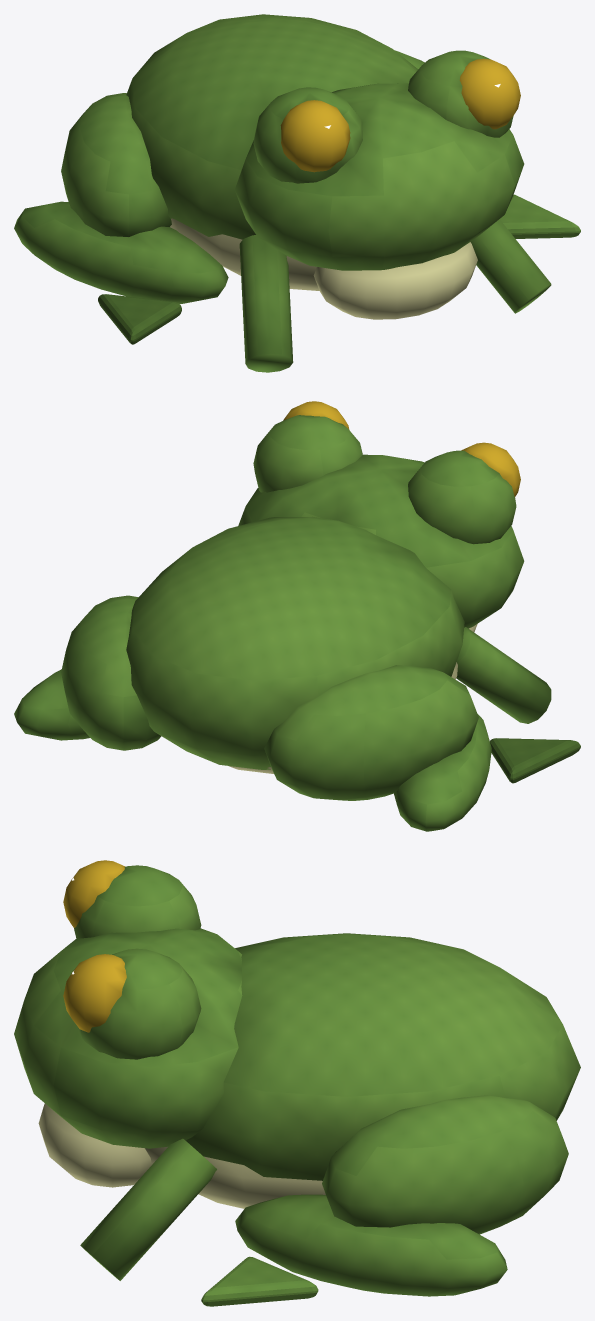
The model's file is frog.glb.
3 renders of one model, top to bottom at view 1: azimuth 30°, elevation 25°; view 2: azimuth 150°, elevation 25°; view 3: azimuth 270°, elevation 25°, orthographic. The views are drawn at different scales.
Visible parts, largest first — view 1: frog_mesh, legsB_mesh, throat_mesh; view 2: frog_mesh, legsB_mesh; view 3: frog_mesh, legsB_mesh, throat_mesh.
Part boxes in pixels (x1,y1,x2,y2): frog_mesh: [126, 14, 551, 372]; legsB_mesh: [14, 50, 580, 344]; throat_mesh: [313, 242, 477, 319]; frog_mesh: [126, 401, 551, 773]; legsB_mesh: [14, 595, 580, 831]; frog_mesh: [14, 860, 580, 1280]; legsB_mesh: [201, 1095, 568, 1306]; throat_mesh: [38, 1103, 151, 1187].
Bounding box in the file's own units: 0.2388 × 0.1332 × 0.23.
4 materials, 1 textured.
